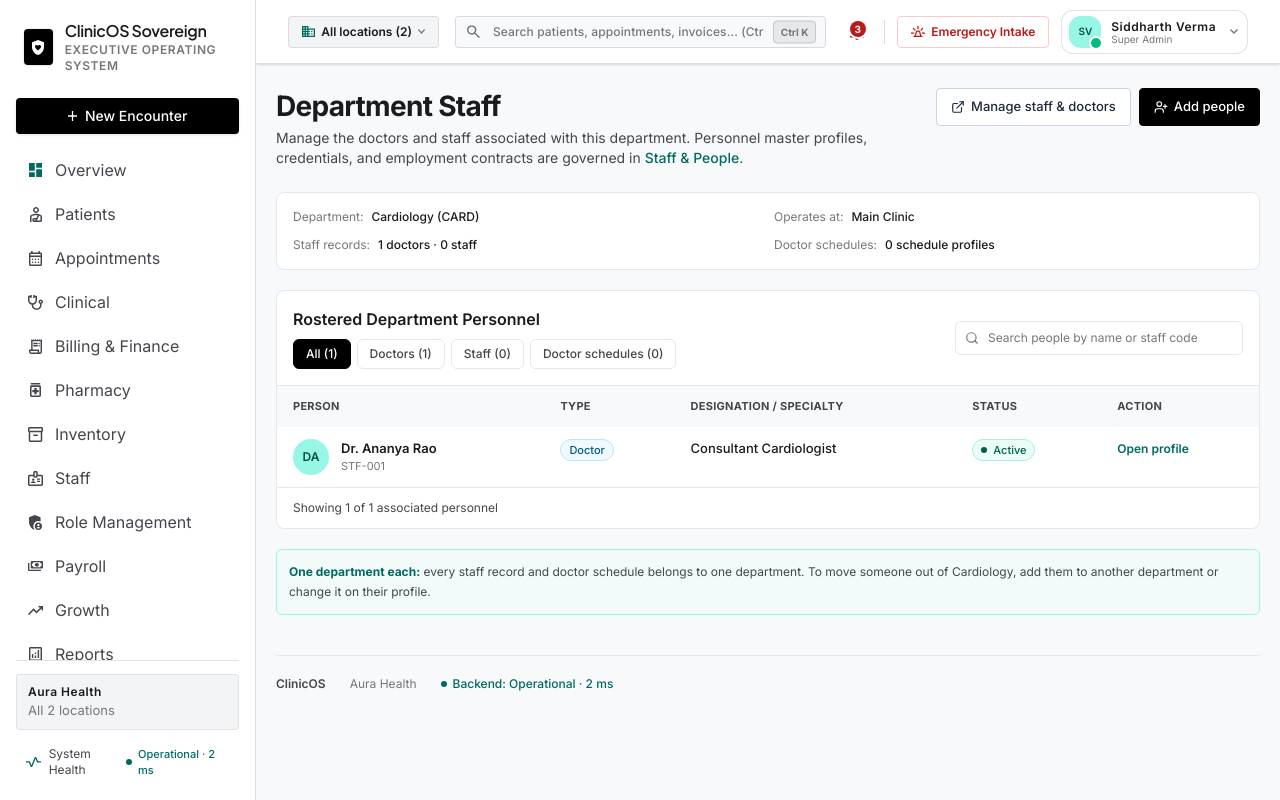
Test: department staff › lists the department’s people and adds someone from another department
The width and height of the screenshot is (1280, 800).
Expected: the text "Dr. Ananya Rao" is shown, [341, 438, 437, 458]
Click the button "Add people".
click(1199, 107)  # box [1139, 88, 1260, 126]
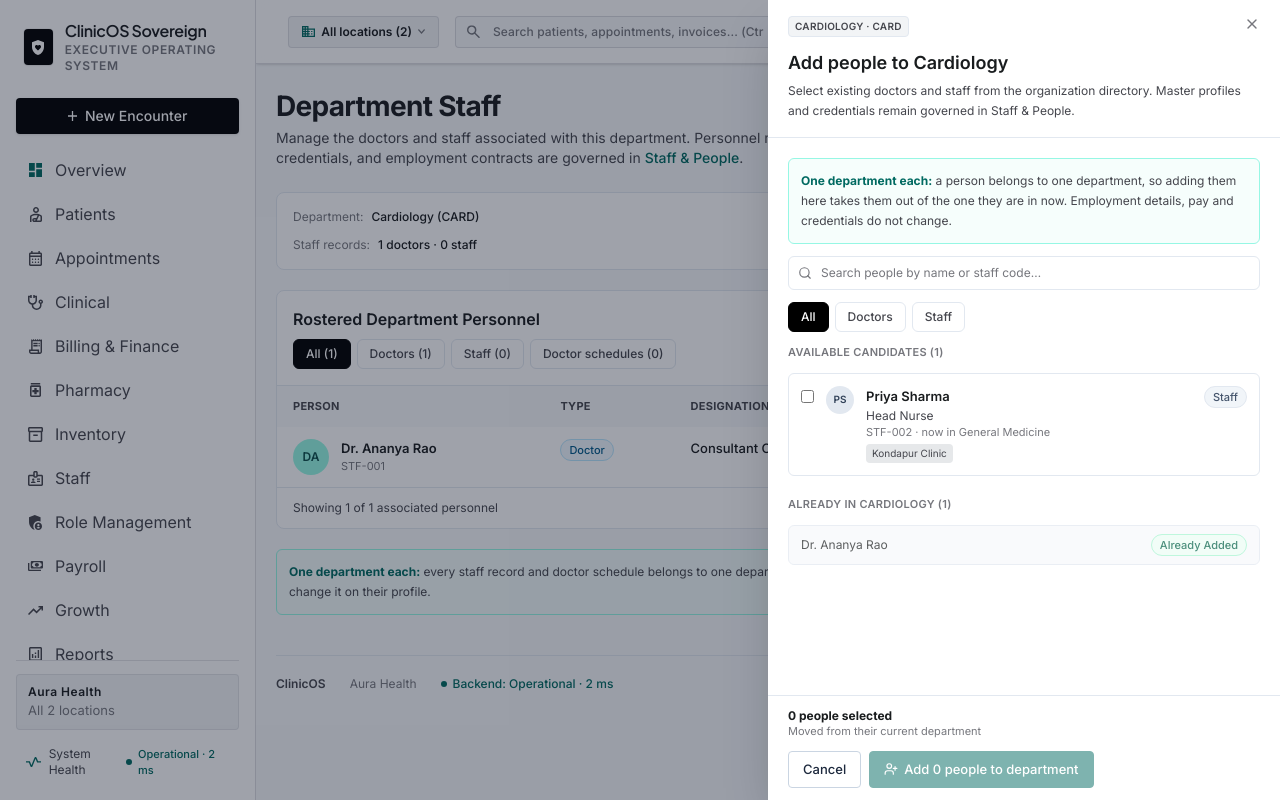
Click the checkbox labelled "Priya Sharma".
click(808, 396)  # box [801, 390, 814, 402]
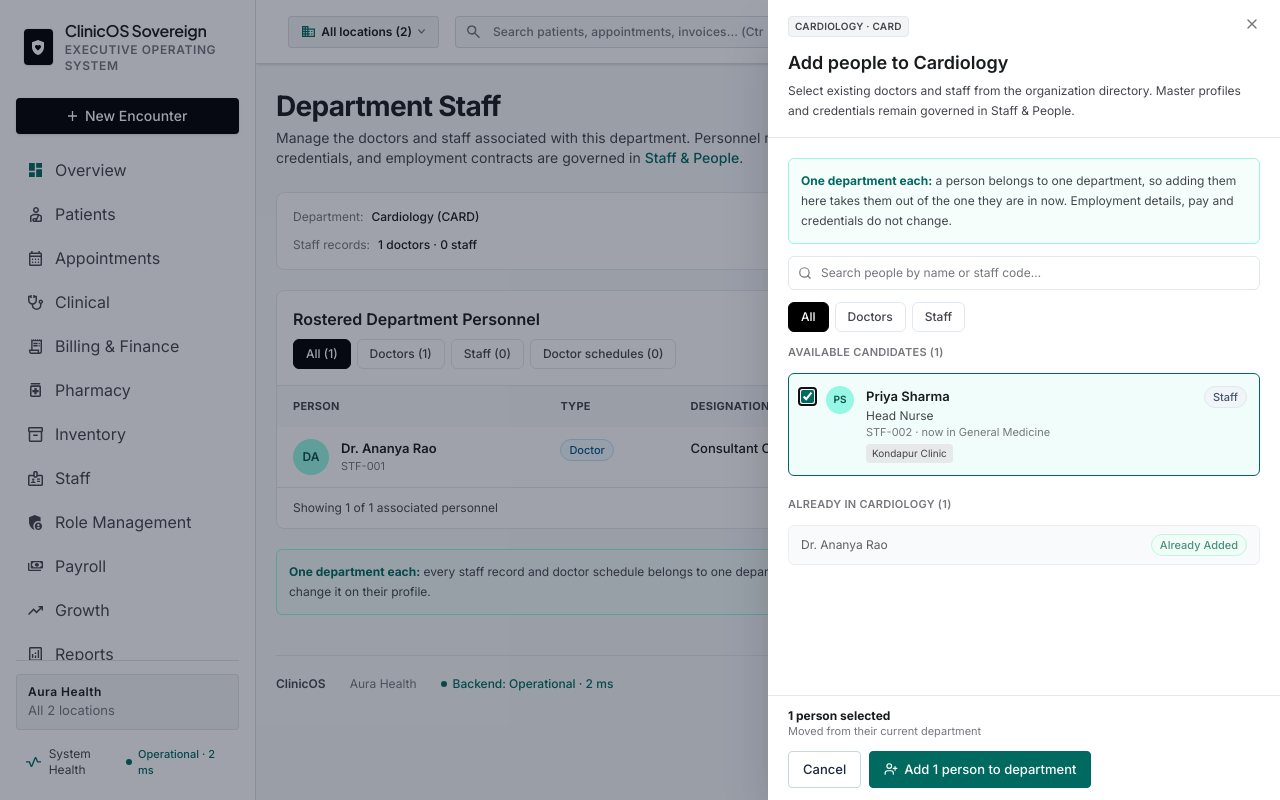
Click the button "Add 1 person to department".
click(980, 769)  # box [869, 750, 1092, 788]
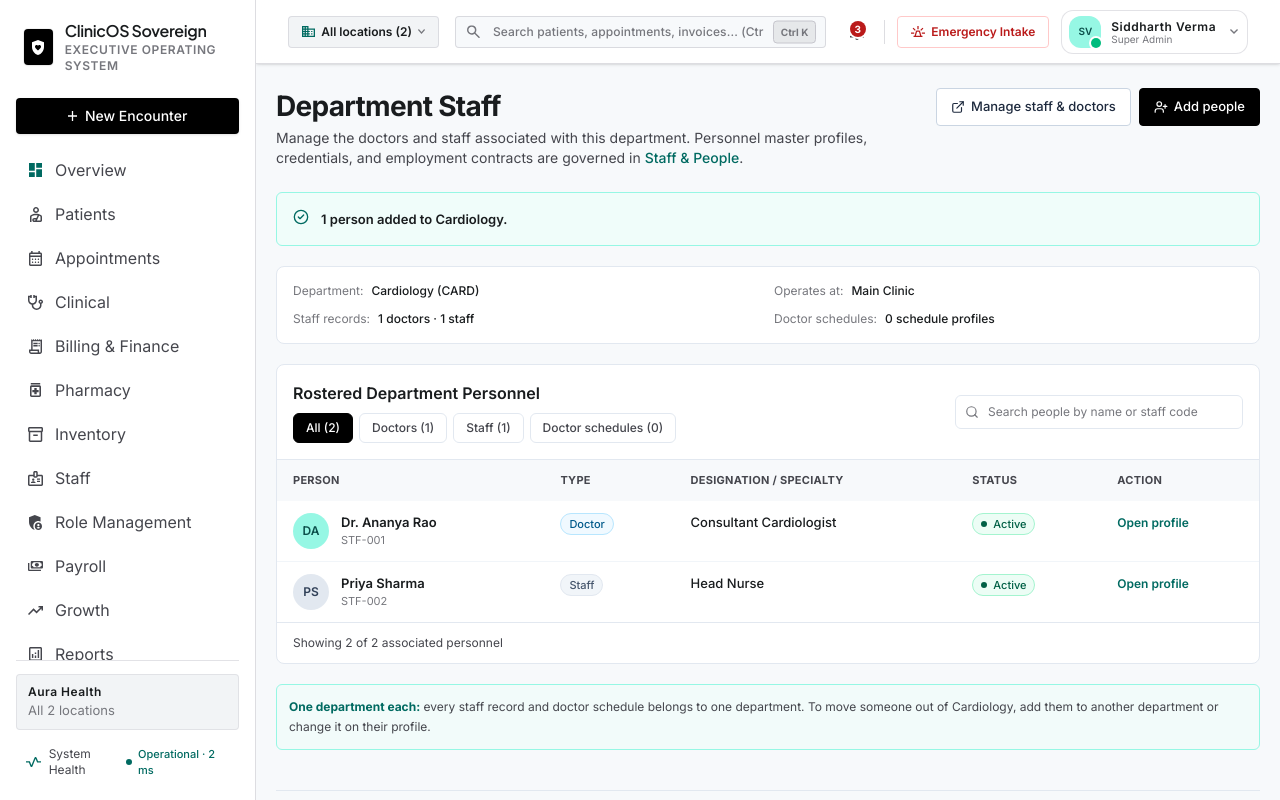
Result: the text "1 person added to Cardiology." is shown at [321, 211, 508, 227]
